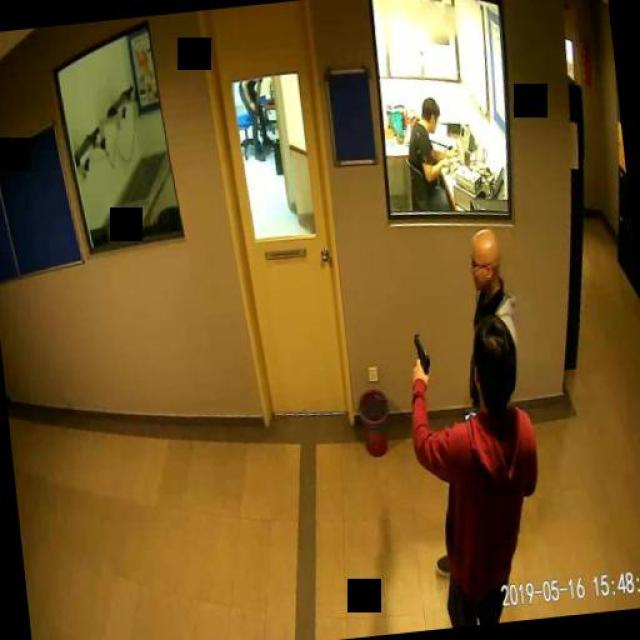gun: (409, 330, 429, 378)
